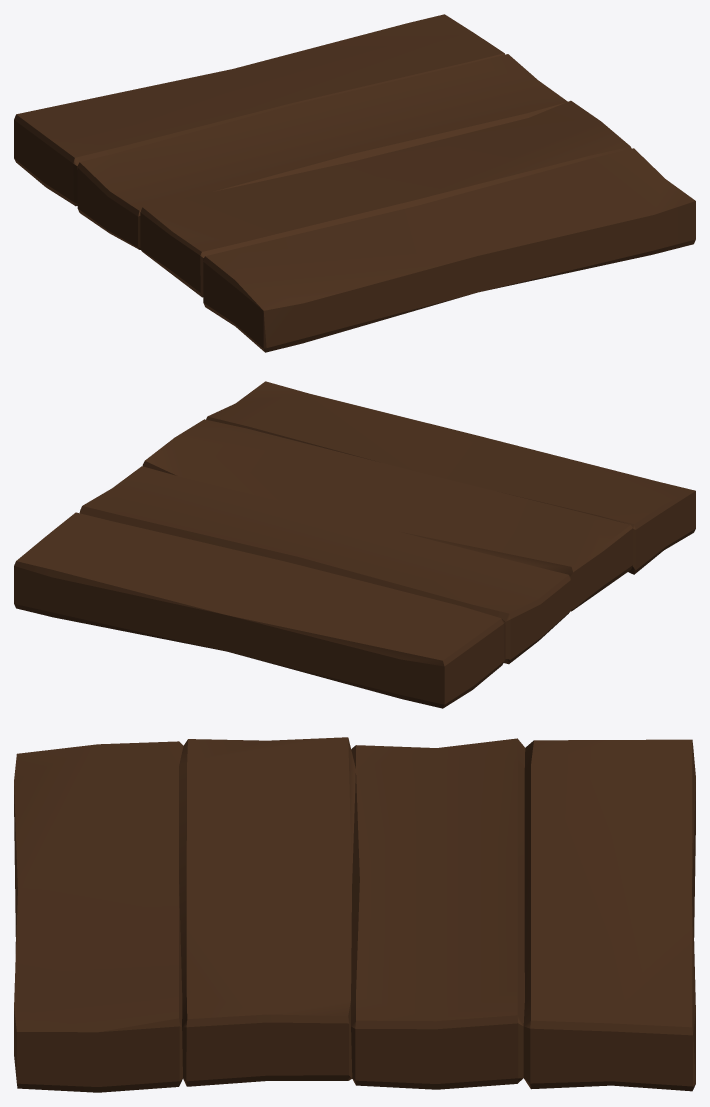
The model's file is geo_Platform.fbx.
3 views of the same model, one above another, from view 1: azimuth 30°, elevation 25°; view 2: azimuth 150°, elevation 25°; view 3: azimuth 270°, elevation 25° (orthographic). The views are drawn at different scales.
Parts seen in each view (by area): view 1: geo_platform; view 2: geo_platform; view 3: geo_platform.
Boxes of the visible parts, x1,y1,x2,y2 form: geo_platform: (14,14,695,352); geo_platform: (14,381,695,708); geo_platform: (14,737,695,1092).
Size of the model in its own units: 4.01 by 0.5305 by 4.06.
